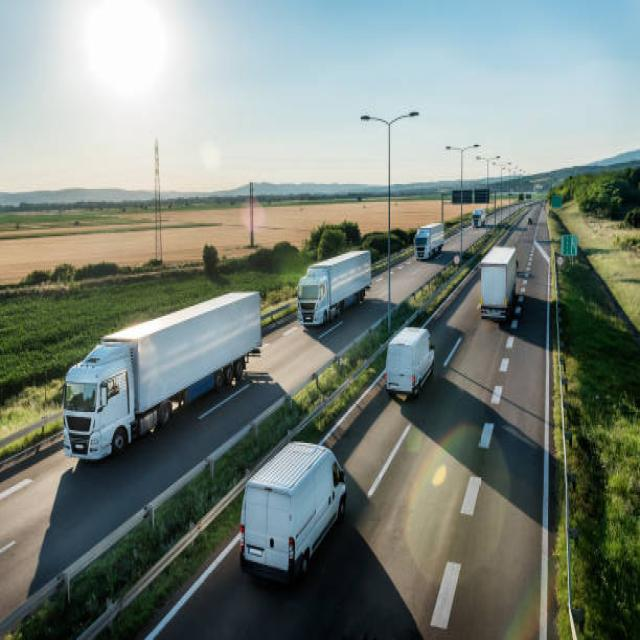16-Wheelers: (60, 288, 262, 462), (296, 249, 371, 326), (477, 244, 518, 321), (413, 221, 443, 259)
Traffic-sign: (560, 233, 578, 256)
Truck: (238, 440, 348, 584), (385, 326, 435, 399), (472, 207, 485, 226)
